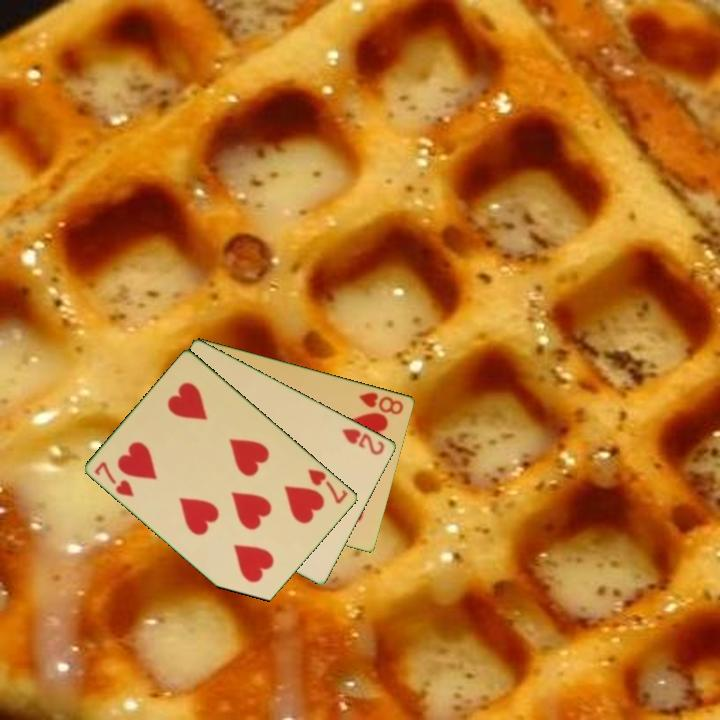2h: (339, 425, 388, 458)
7h: (304, 465, 351, 507), (91, 458, 137, 500)
8h: (356, 388, 406, 417)
